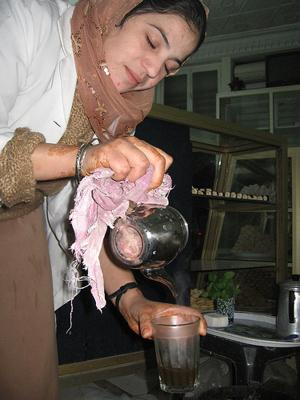person: (2, 3, 209, 400)
